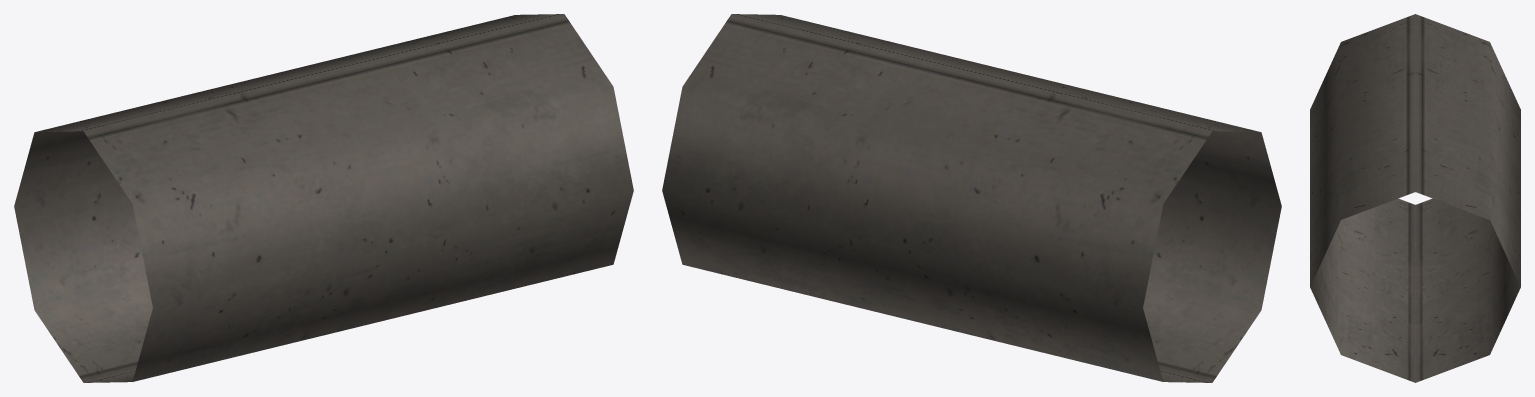
File: com_pipe_8x32_white_clean_lod1.glb
3 views of the same model, side by side, from view 1: azimuth 30°, elevation 25°; view 2: azimuth 150°, elevation 25°; view 3: azimuth 270°, elevation 25° (orthographic). The views are drawn at different scales.
Parts seen in each view (by area): view 1: surf0; view 2: surf0; view 3: surf0.
Part boxes in pixels (left/top/right/bottom): surf0: left=14, top=14, right=633, bottom=382; surf0: left=662, top=14, right=1281, bottom=382; surf0: left=1310, top=14, right=1520, bottom=382.
Size of the model in its own units: 32 by 16 by 16.
